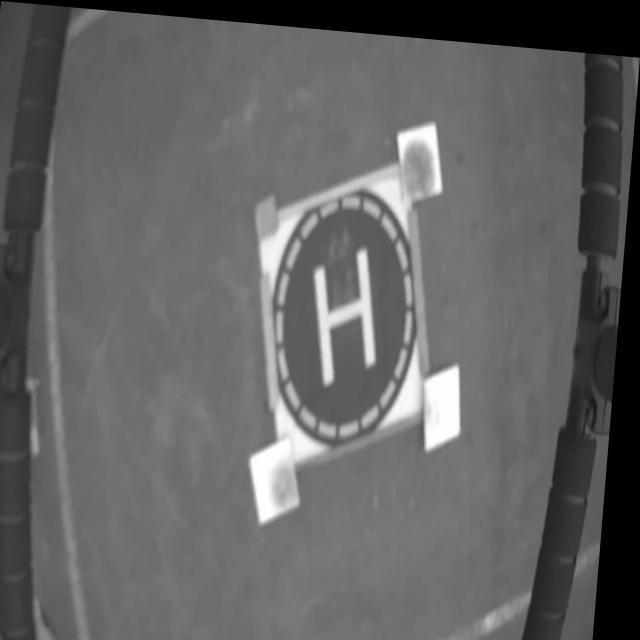Helipad: (315, 237, 380, 383)
